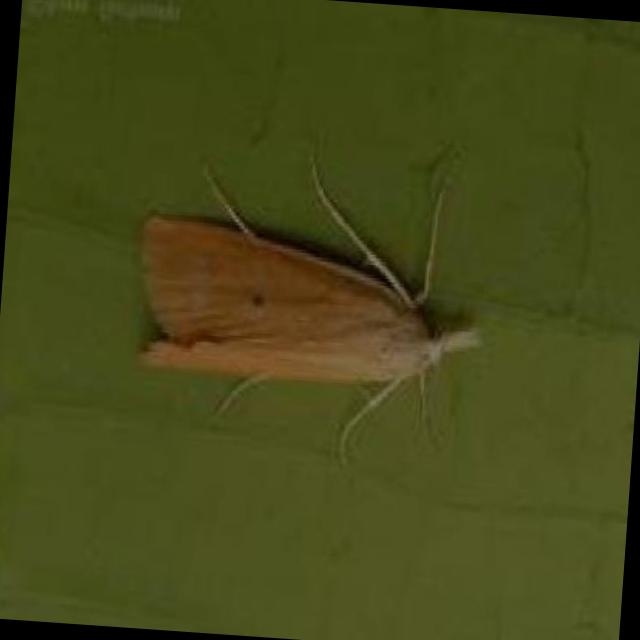stem-borer: (122, 144, 494, 486)
